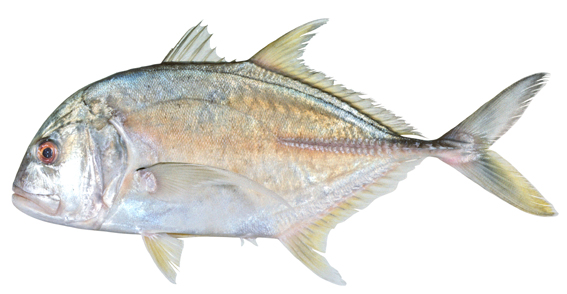fish: (12, 18, 559, 287)
